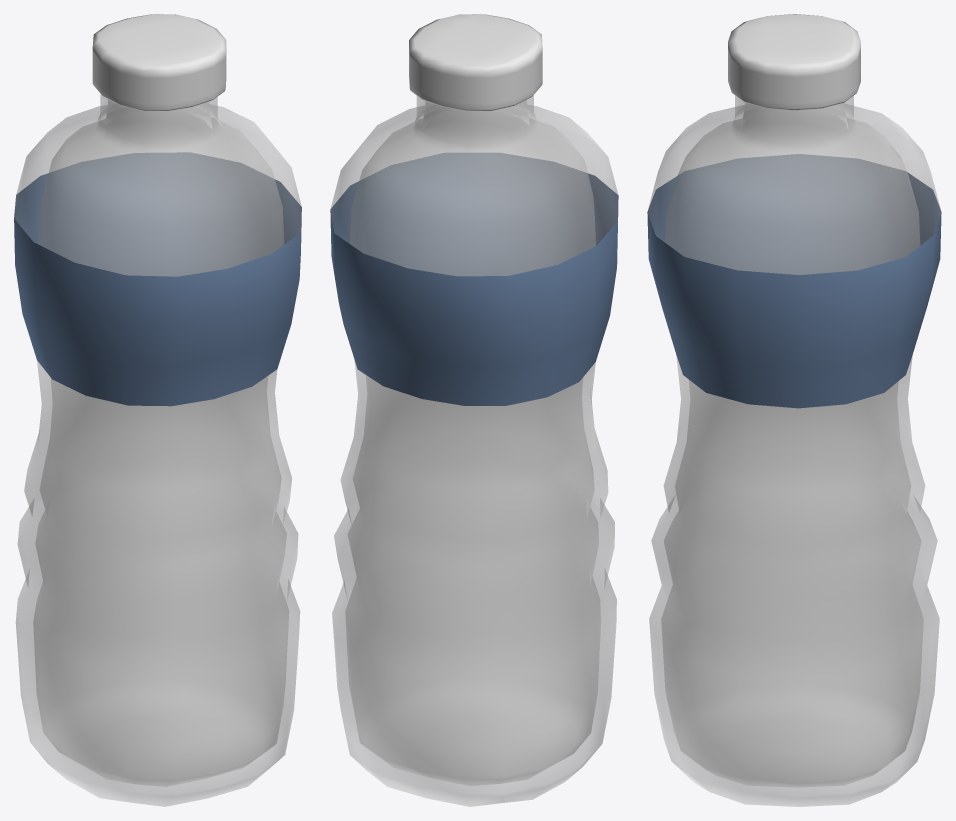
File: water_bottle.fbx
3 renders of one model, left to right at view 1: azimuth 30°, elevation 25°; view 2: azimuth 150°, elevation 25°; view 3: azimuth 270°, elevation 25°, orthographic.
Parts seen in each view (by area): view 1: bottle, cap1; view 2: bottle, cap1; view 3: bottle, cap1.
Boxes of the visible parts, x1,y1,x2,y2 form: bottle: [14, 94, 301, 806]; cap1: [92, 14, 226, 110]; bottle: [330, 95, 618, 806]; cap1: [409, 14, 542, 110]; bottle: [647, 96, 941, 806]; cap1: [728, 14, 860, 110].
Size of the model in its own units: 1.22 by 3.41 by 1.25.
